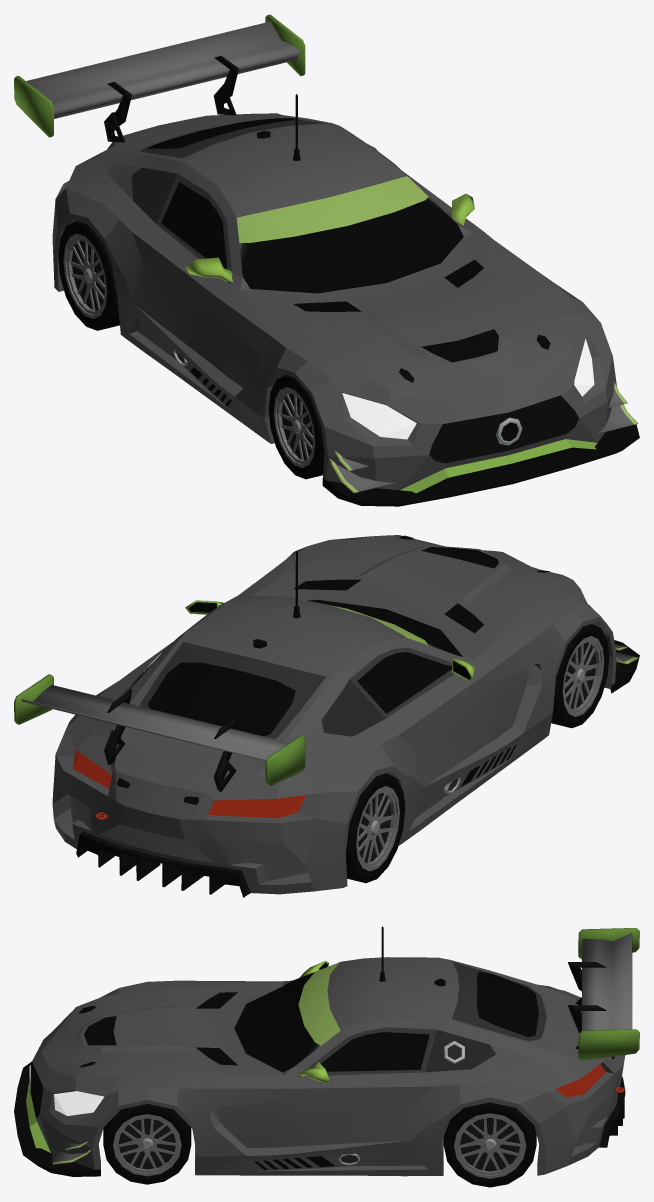
File: tristar-racer.glb
The picture shows the model from 3 angles, top to bottom: view 1: azimuth 30°, elevation 25°; view 2: azimuth 150°, elevation 25°; view 3: azimuth 270°, elevation 25°; orthographic projection. The views are drawn at different scales.
Visible parts, largest first — view 1: amg Gt body, rrWheel, rFWheel.001; view 2: amg Gt body, rrWheel, rFWheel.001; view 3: amg Gt body, lrWheel.002, lfWheel.001.
Boxes of the visible parts, box(x1,y1,x2,y2) form: amg Gt body: box(14, 14, 639, 506); rrWheel: box(58, 221, 119, 330); rFWheel.001: box(268, 375, 324, 479); amg Gt body: box(14, 535, 639, 897); rrWheel: box(346, 773, 405, 883); rFWheel.001: box(551, 624, 609, 728); amg Gt body: box(14, 926, 639, 1176); lrWheel.002: box(443, 1102, 536, 1187); lfWheel.001: box(103, 1104, 191, 1184).
Bounding box in the file's own units: 1.93 × 1.53 × 4.3.
Materials: 7 (6 with a texture image).
